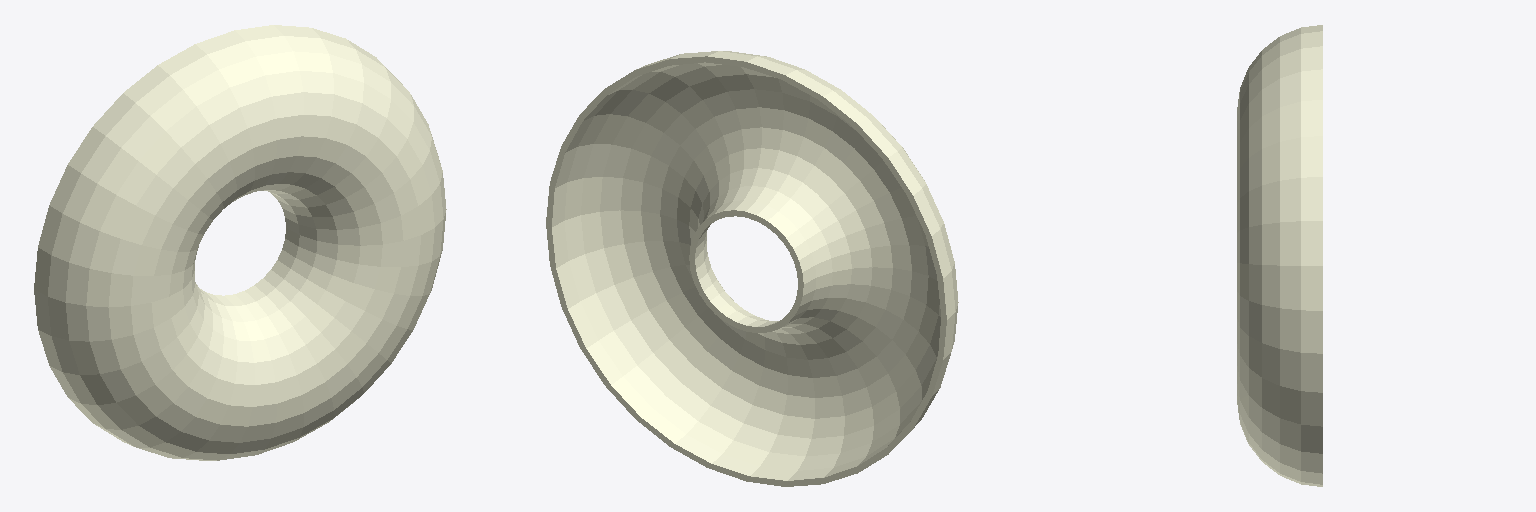
The model's file is section_021.obj.
3 views of the same model, side by side, from view 1: azimuth 30°, elevation 25°; view 2: azimuth 150°, elevation 25°; view 3: azimuth 270°, elevation 25° (orthographic).
Size of the model in its own units: 70 by 70 by 13.